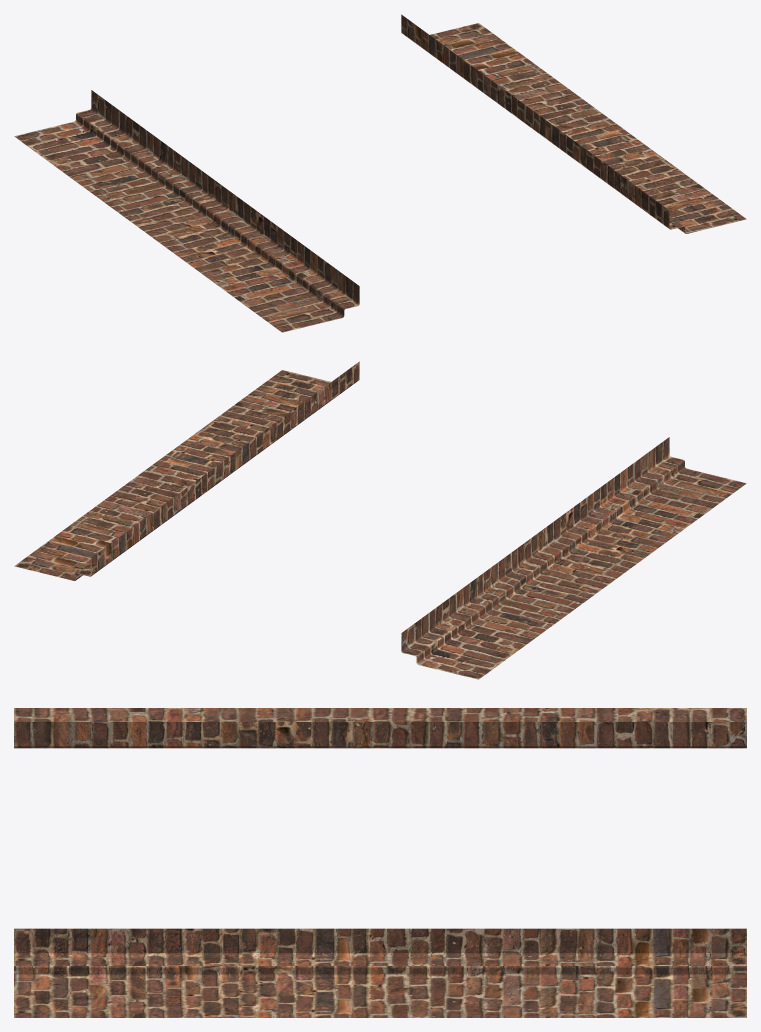
Rendered from wall_window_tall_large_02.gltf.
3 views of the same model, one above another, from view 1: azimuth 30°, elevation 25°; view 2: azimuth 150°, elevation 25°; view 3: azimuth 270°, elevation 25° (orthographic). The views are drawn at different scales.
Parts seen in each view (by area): view 1: wall_window_tall_large_02; view 2: wall_window_tall_large_02; view 3: wall_window_tall_large_02.
Boxes of the visible parts, x1=… form: wall_window_tall_large_02: x1=14, y1=14, x2=746, y2=332; wall_window_tall_large_02: x1=14, y1=361, x2=746, y2=679; wall_window_tall_large_02: x1=14, y1=708, x2=746, y2=1017.
Bounding box in the file's own units: 3 × 0.17 × 3.
Materials: 1 (1 with a texture image).
